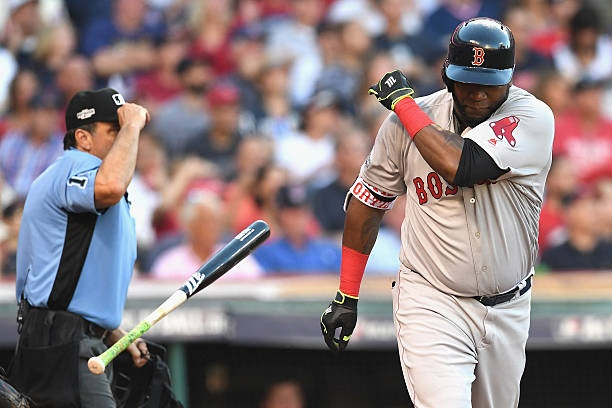bita: (88, 219, 271, 375)
